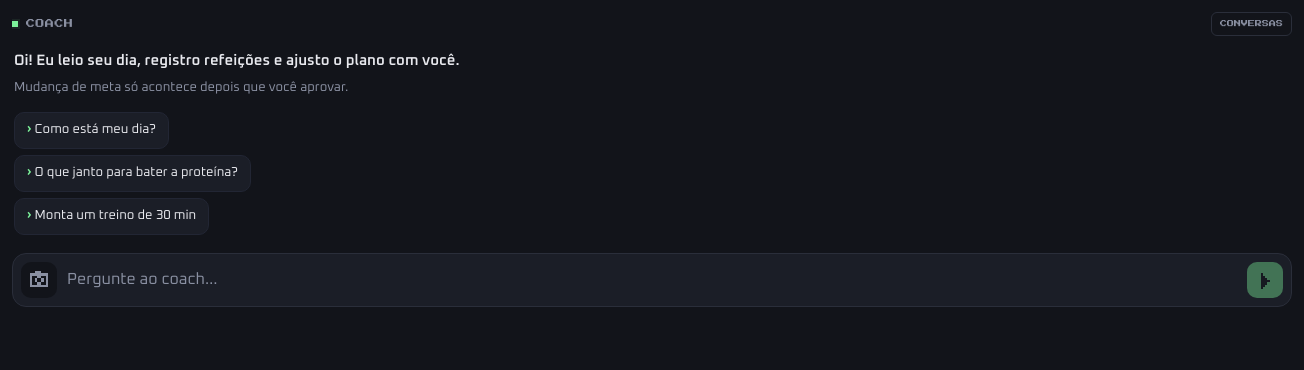
Coach › 422 com texto do servidor mostra o texto (ex.: foto grande)
The image size is (1304, 370).
Step 1. Type "oi" into the text box named "mensagem para o coach" → {"x": 652, "y": 280}, box [63,262,1241,298]
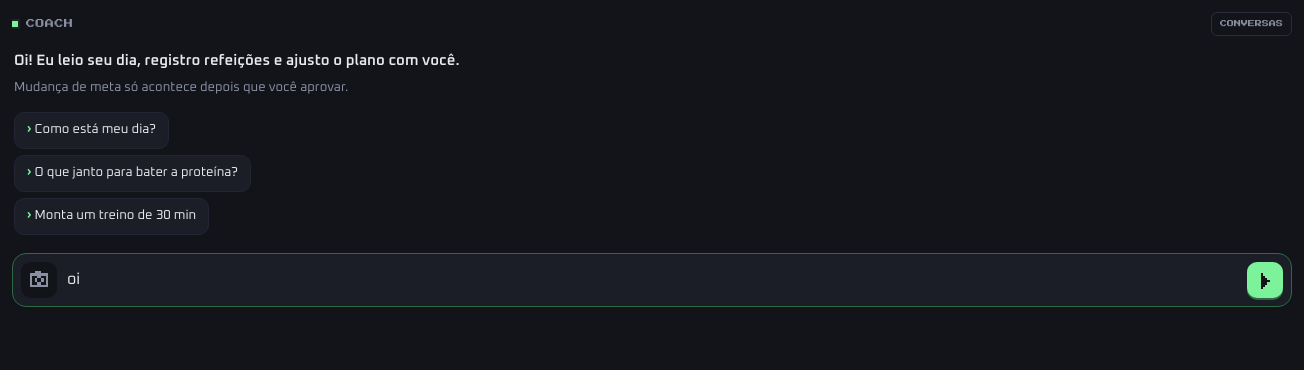
Step 2. Click the button named "enviar" → {"x": 1265, "y": 280}, box [1247,262,1283,298]
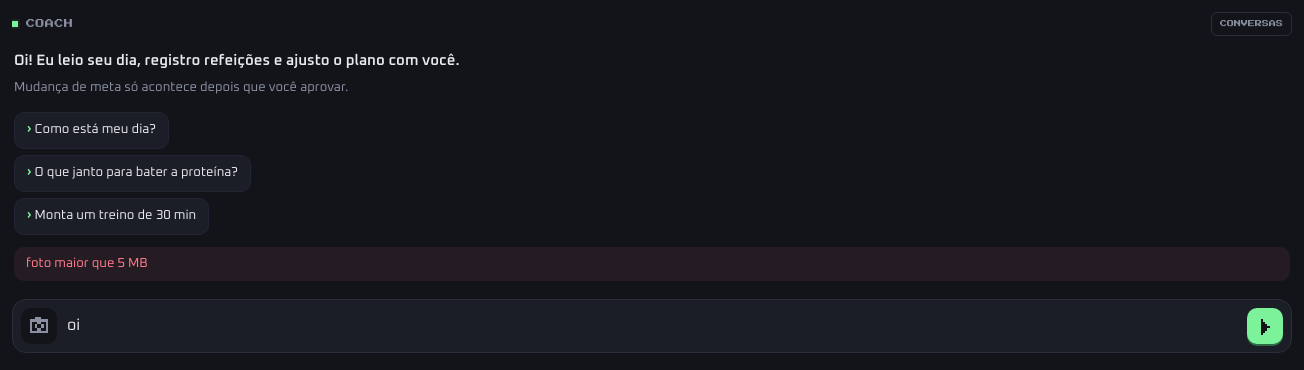
Now the message reads "foto maior que 5 MB", box [26,256,148,270]
